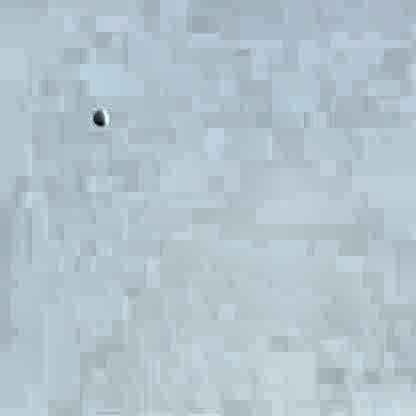golfball: (90, 108, 108, 126)
